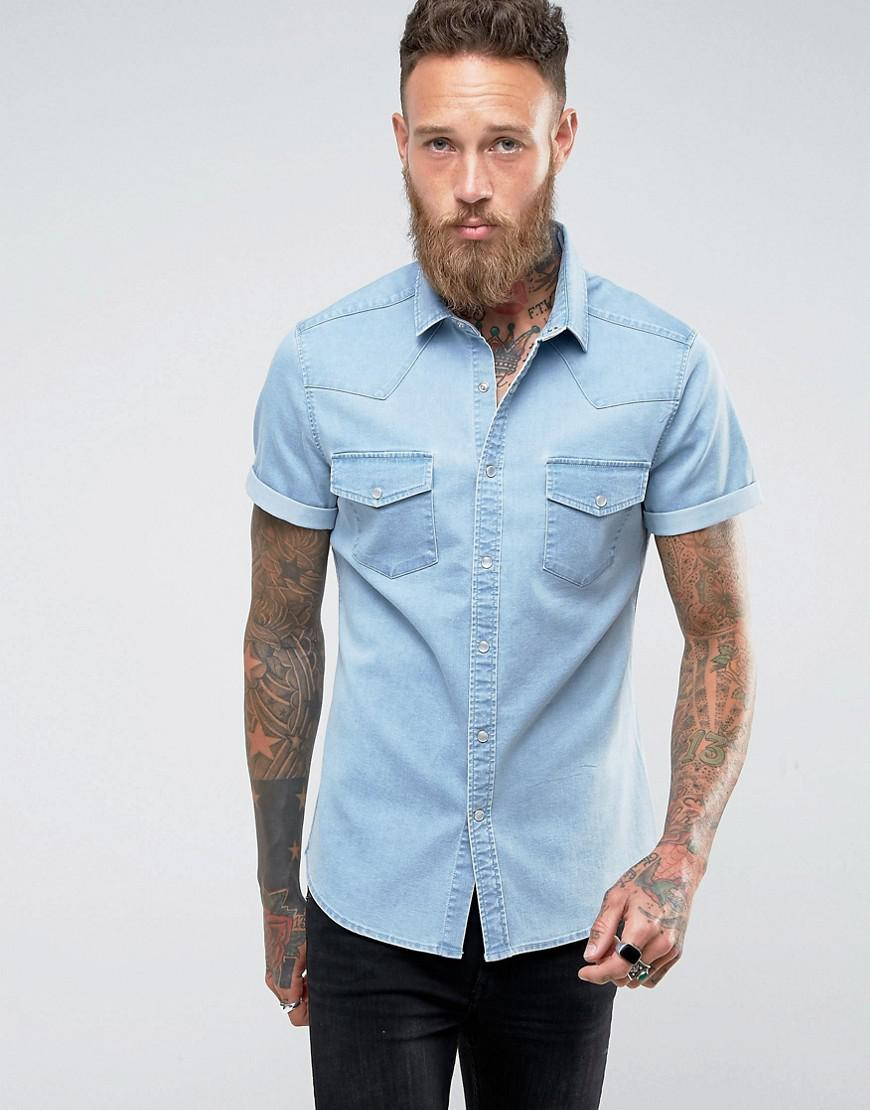teeshirt: (239, 224, 766, 983)
